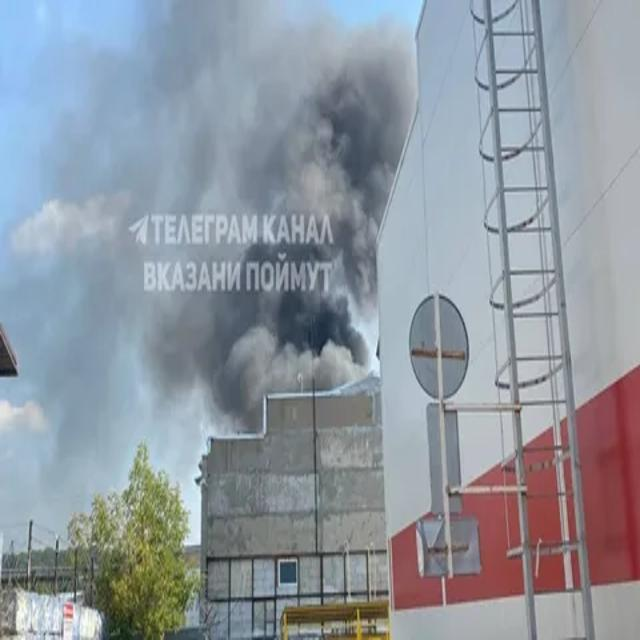Smoke: (122, 1, 416, 392)
